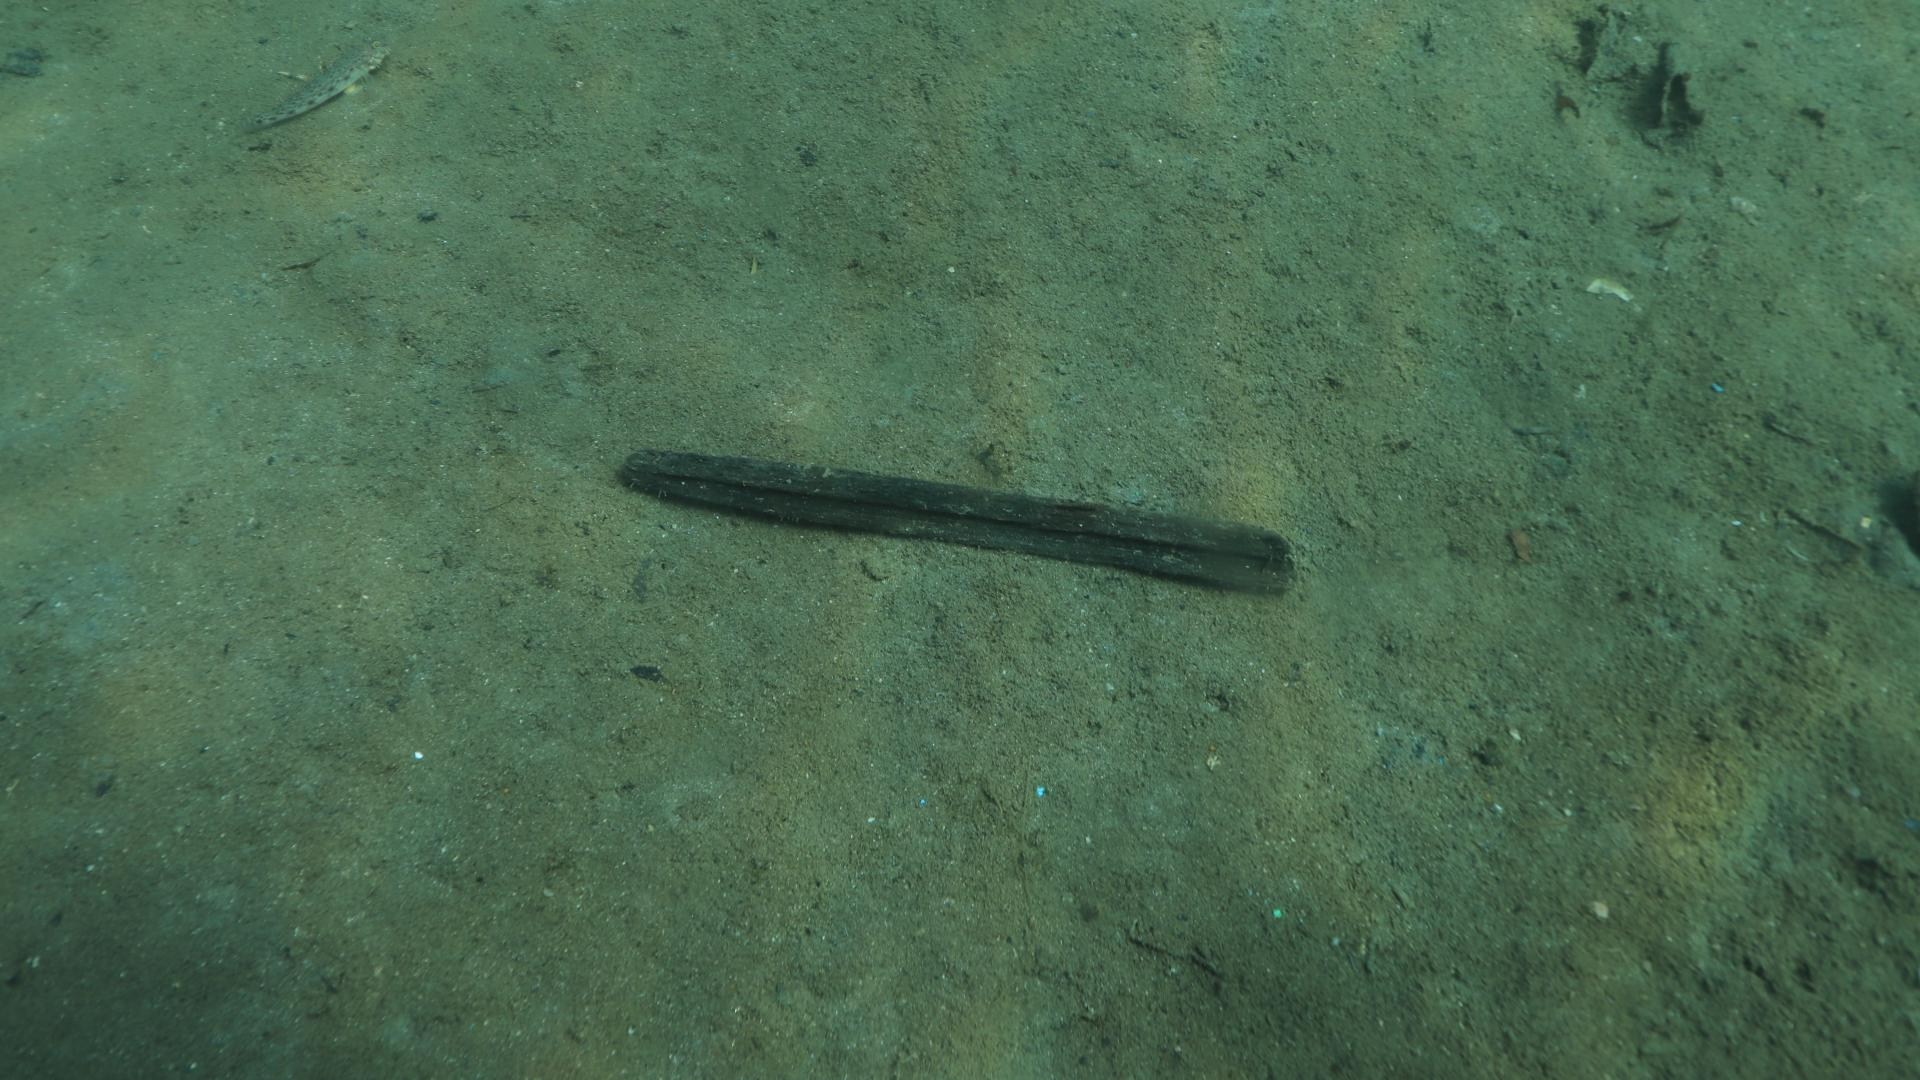wood: (611, 447, 1300, 595)
